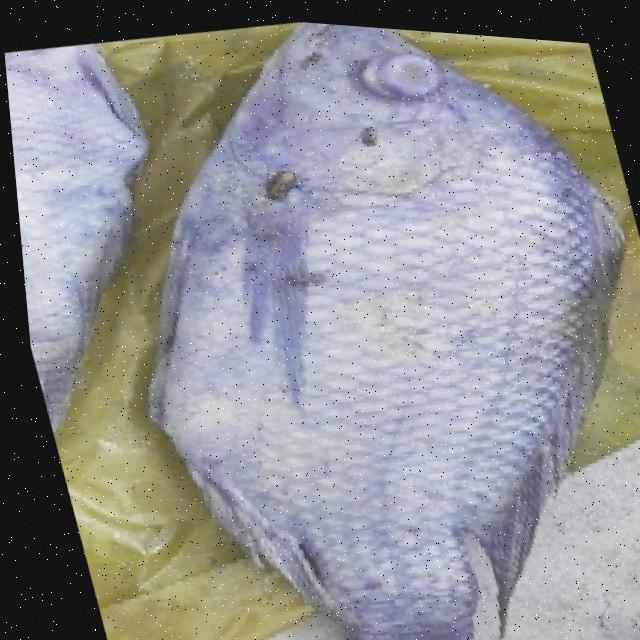Non-Fresh: (197, 117, 521, 528), (338, 28, 461, 111)
